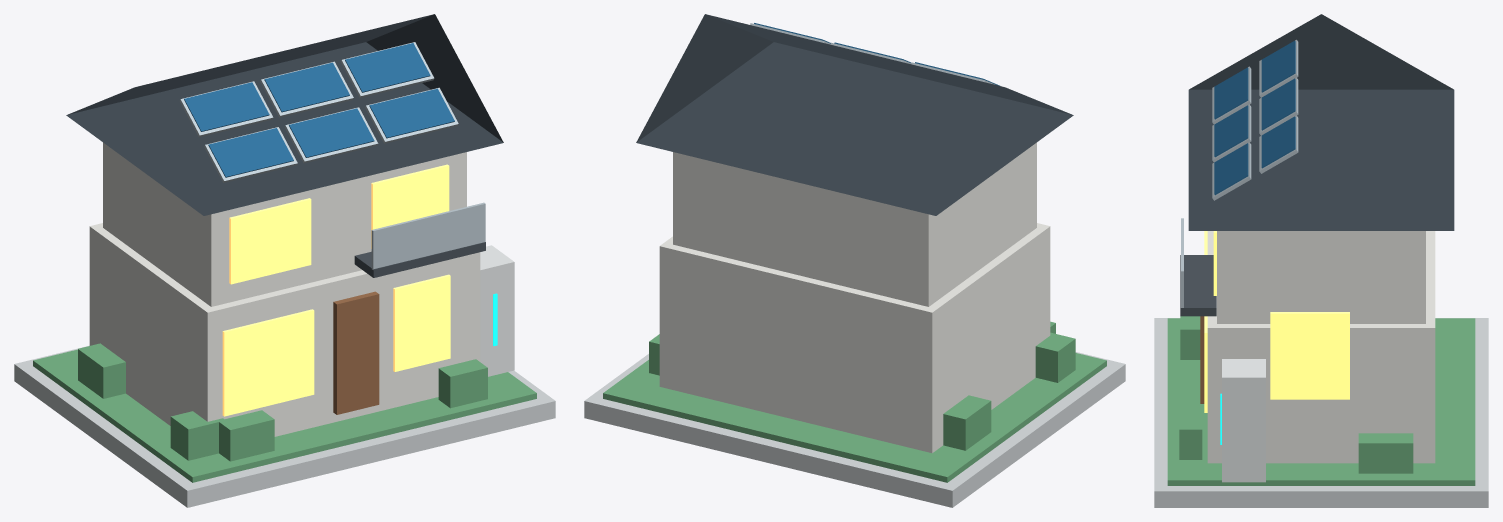
The model's file is home_energy_house.glb.
3 views of the same model, side by side, from view 1: azimuth 30°, elevation 25°; view 2: azimuth 150°, elevation 25°; view 3: azimuth 270°, elevation 25° (orthographic). The views are drawn at different scales.
Visible parts, largest first — view 1: Ground floor, Roof, Upper floor, Foundation, Landscaped base, Front window left, Upper front window left, Entry door, Front window right, Balcony rail, Home battery, Upper front window right (+17 smaller); view 2: Ground floor, Roof, Upper floor, Foundation, Landscaped base, Shrub 4, Shrub 1; view 3: Roof, Ground floor, Upper floor, Landscaped base, Foundation, Side window, Home battery, Shrub 5, Balcony, Solar cells 1-2, Solar cells 1-3, Solar cells 2-1 (+13 smaller).
Part boxes in pixels (x1=…): Ground floor: x1=89, y1=223, x2=480, y2=436; Roof: x1=66, y1=14, x2=503, y2=215; Upper floor: x1=103, y1=142, x2=466, y2=306; Foundation: x1=14, y1=345, x2=555, y2=507; Landscaped base: x1=33, y1=349, x2=536, y2=482; Front window left: x1=222, y1=309, x2=314, y2=416; Upper front window left: x1=229, y1=198, x2=311, y2=284; Entry door: x1=333, y1=291, x2=379, y2=414; Front window right: x1=393, y1=274, x2=450, y2=371; Balcony rail: x1=371, y1=202, x2=485, y2=269; Home battery: x1=480, y1=245, x2=514, y2=376; Upper front window right: x1=371, y1=164, x2=449, y2=248; Ground floor: x1=659, y1=223, x2=1050, y2=453; Roof: x1=636, y1=14, x2=1073, y2=215; Upper floor: x1=673, y1=142, x2=1036, y2=306; Foundation: x1=584, y1=352, x2=1125, y2=507; Landscaped base: x1=603, y1=353, x2=1106, y2=482; Shrub 4: x1=943, y1=395, x2=991, y2=450; Shrub 1: x1=1035, y1=332, x2=1075, y2=382; Roof: x1=1188, y1=14, x2=1454, y2=230; Ground floor: x1=1207, y1=231, x2=1435, y2=463; Upper floor: x1=1217, y1=231, x2=1425, y2=323; Landscaped base: x1=1167, y1=318, x2=1475, y2=485; Foundation: x1=1154, y1=318, x2=1488, y2=507; Side window: x1=1270, y1=312, x2=1349, y2=399; Home battery: x1=1222, y1=359, x2=1265, y2=482; Shrub 5: x1=1358, y1=433, x2=1413, y2=473; Balcony: x1=1180, y1=255, x2=1216, y2=316; Solar cells 1-2: x1=1261, y1=78, x2=1295, y2=130; Solar cells 1-3: x1=1261, y1=116, x2=1295, y2=168; Solar cells 2-1: x1=1214, y1=67, x2=1248, y2=119.
Size of the model in its own units: 5.4 by 4.89 by 4.4.
